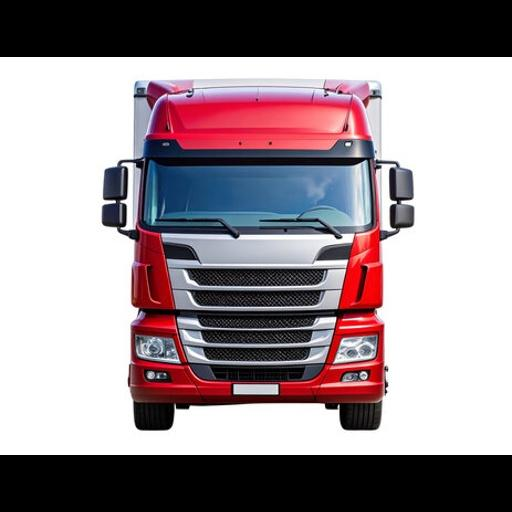truck: (102, 78, 414, 430)
